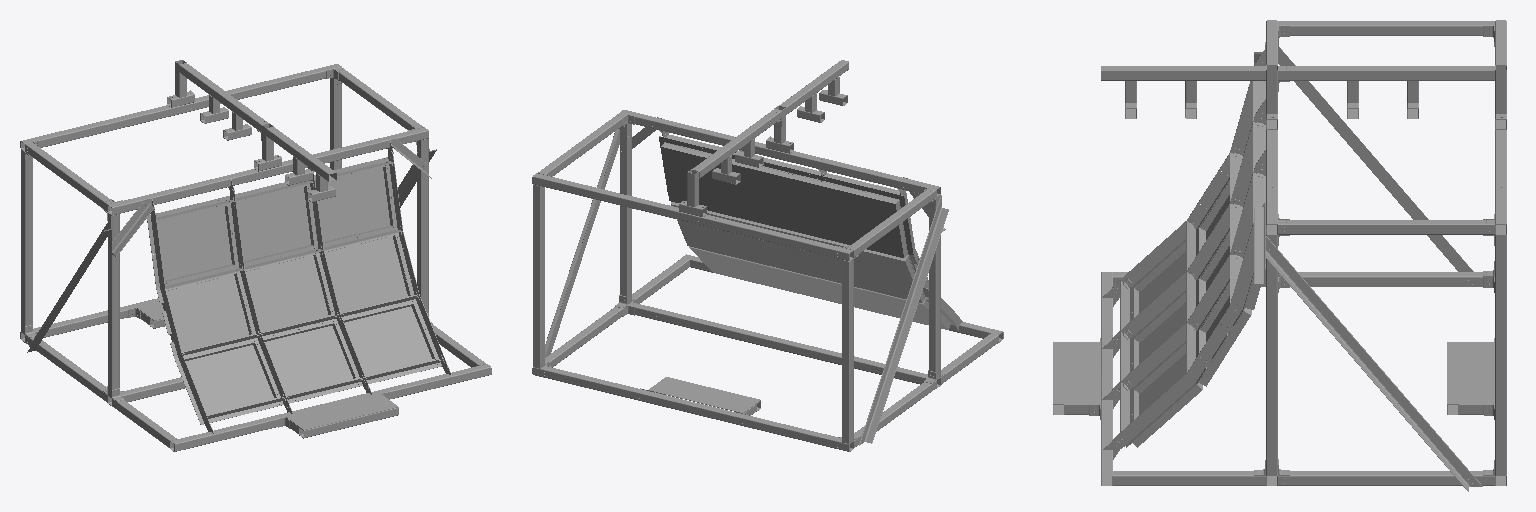
The robot description file, URDF, robot "tubewhole0412":
<?xml version="1.0" encoding="utf-8"?>
<!-- This URDF was automatically created by SolidWorks to URDF Exporter! Originally created by [author] ([email redacted]) 
     Commit Version: 1.6.0-1-g15f4949  Build Version: 1.6.7594.29634
     For more information, please see http://wiki.ros.org/sw_urdf_exporter -->
<robot
  name="tubewhole0412">
  <link
    name="base_link">
    <inertial>
      <origin
        xyz="-2.5 1.3323E-15 -2.7756E-17"
        rpy="0 0 0" />
      <mass
        value="4385.3" />
      <inertia
        ixx="4904.3"
        ixy="0"
        ixz="1.9857E-27"
        iyy="11588"
        iyz="8.067E-28"
        izz="11588" />
    </inertial>
    <visual>
      <origin
        xyz="0 0 0"
        rpy="0 0 0" />
      <geometry>
        <mesh
          filename="package://tubewhole0412/meshes/base_link.STL" />
      </geometry>
      <material
        name="">
        <color
          rgba="0.66667 0.66667 0.66667 1" />
      </material>
    </visual>
    <collision>
      <origin
        xyz="0 0 0"
        rpy="0 0 0" />
      <geometry>
        <mesh
          filename="package://tubewhole0412/meshes/base_link.STL" />
      </geometry>
    </collision>
  </link>
</robot>

--- What the picture shows (computed from the rendered views, not written in the file) ---
The picture shows the robot from 3 angles, left to right: view 1: azimuth 30°, elevation 25°; view 2: azimuth 150°, elevation 25°; view 3: azimuth 270°, elevation 25°; orthographic projection.
Robot: tubewhole0412 — 1 links, 0 joints (none); root link base_link; default pose: all joints at 0.
Links seen in each view (by area): view 1: base_link; view 2: base_link; view 3: base_link.
Boxes of the visible links, x1,y1,x2,y2 form: base_link: [20, 60, 491, 451]; base_link: [532, 60, 1003, 451]; base_link: [1053, 20, 1506, 491].
Size in the robot's own frame: 4.2 by 3.77 by 2.9 metres.
Meshes: 1 distinct files referenced, 1 mesh visuals loaded (1 binary STL).
